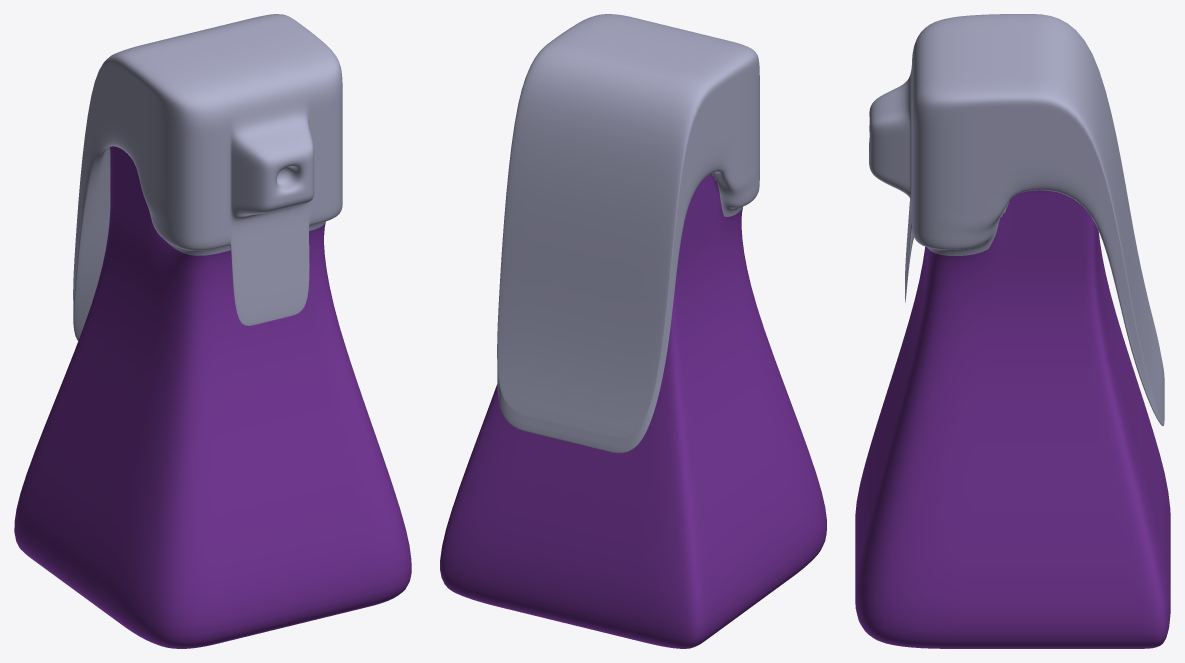
File: Potion.fbx
3 views of the same model, side by side, from view 1: azimuth 30°, elevation 25°; view 2: azimuth 150°, elevation 25°; view 3: azimuth 270°, elevation 25° (orthographic). The views are drawn at different scales.
Visible parts, largest first — view 1: potion; view 2: potion; view 3: potion.
Part boxes in pixels (bbox=[...]): potion: bbox=[14, 14, 411, 648]; potion: bbox=[440, 14, 826, 648]; potion: bbox=[855, 14, 1170, 648].
Size of the model in its own units: 0.9185 by 1.75 by 0.9192.
